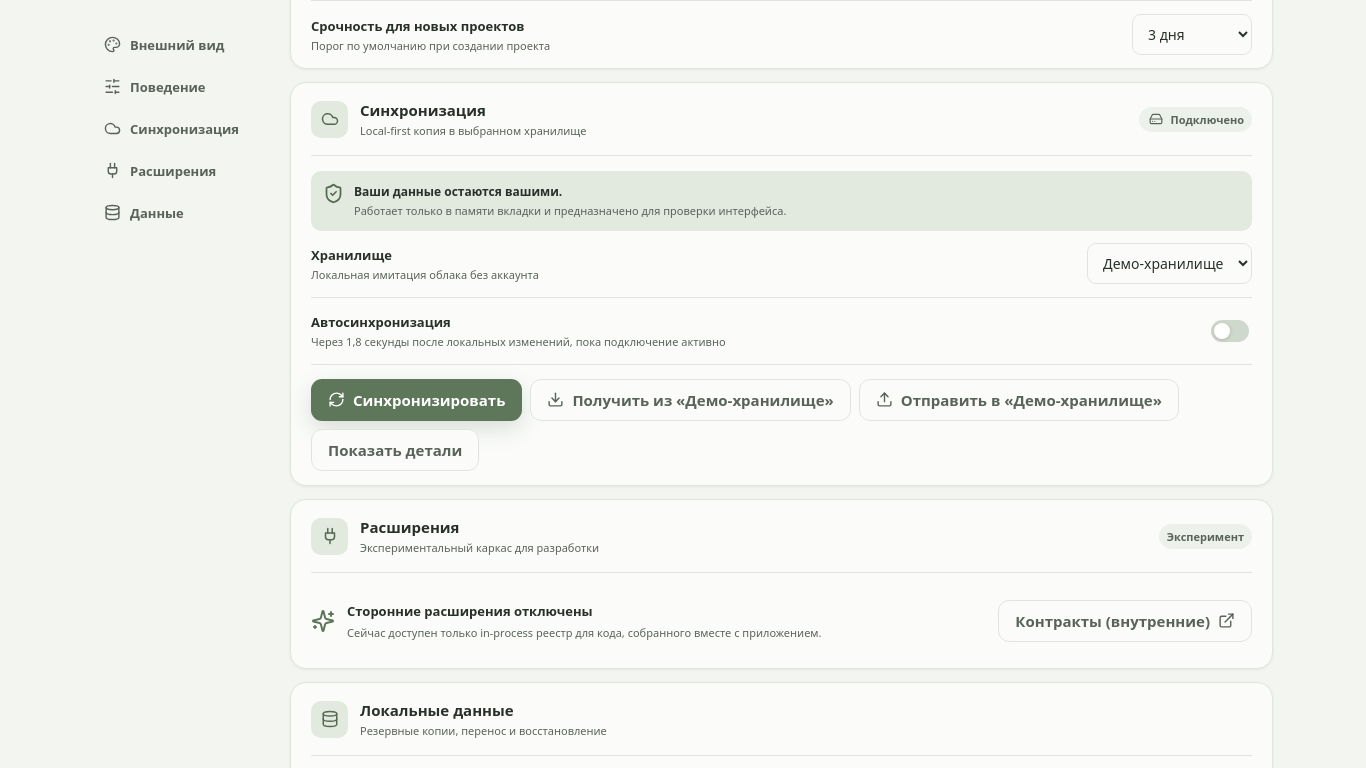
Scenario: Settings portable backup › describes plugins as a disabled experimental in-process scaffold
(page scrolled)
Expected: the heading "Расширения" is shown, [360, 517, 460, 537]
Expected: the text "Сторонние расширения отключены" is shown, [347, 602, 593, 620]
Click the button "Контракты (внутренние)": coordinates (1125, 620) [998, 599, 1252, 641]
(page scrolled)
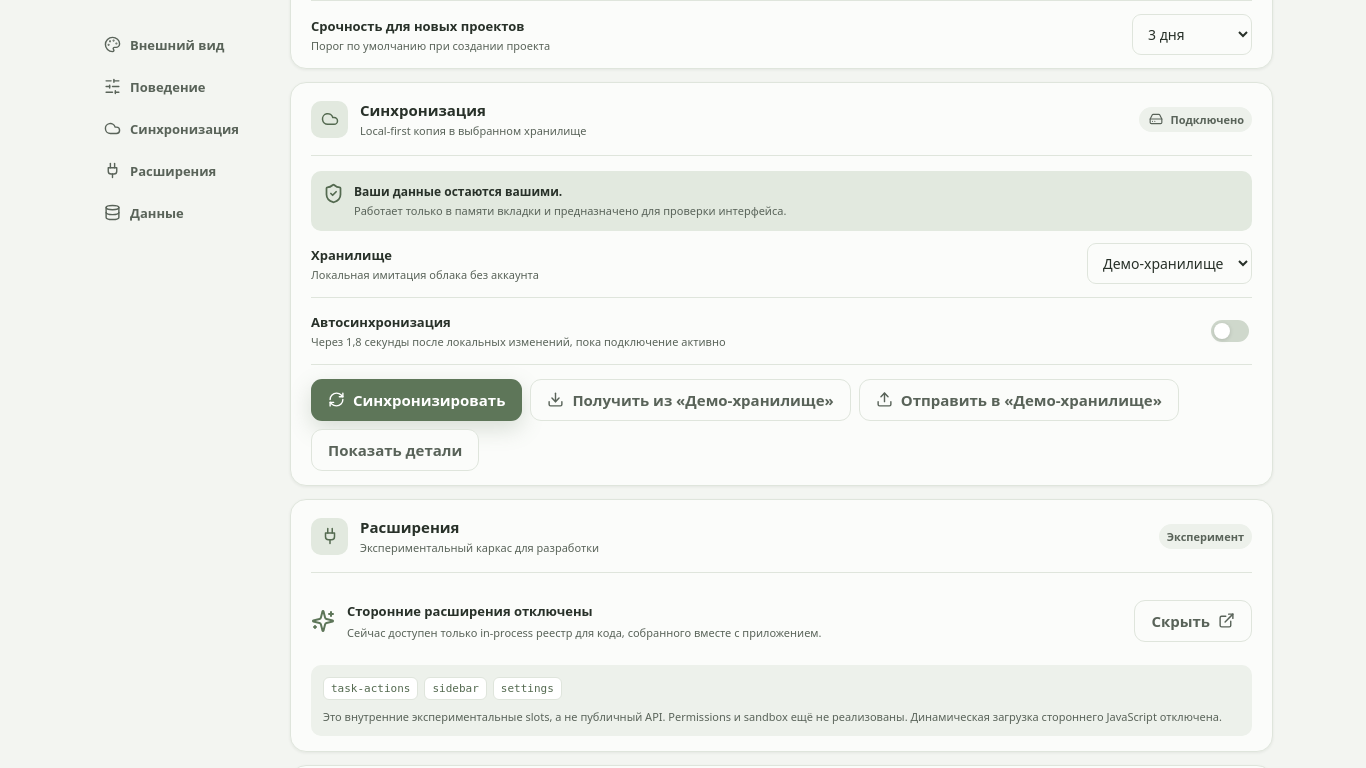
Result: the text "Это внутренние экспериментальные slots, а не публичный API" is shown at [323, 709, 1222, 724]
